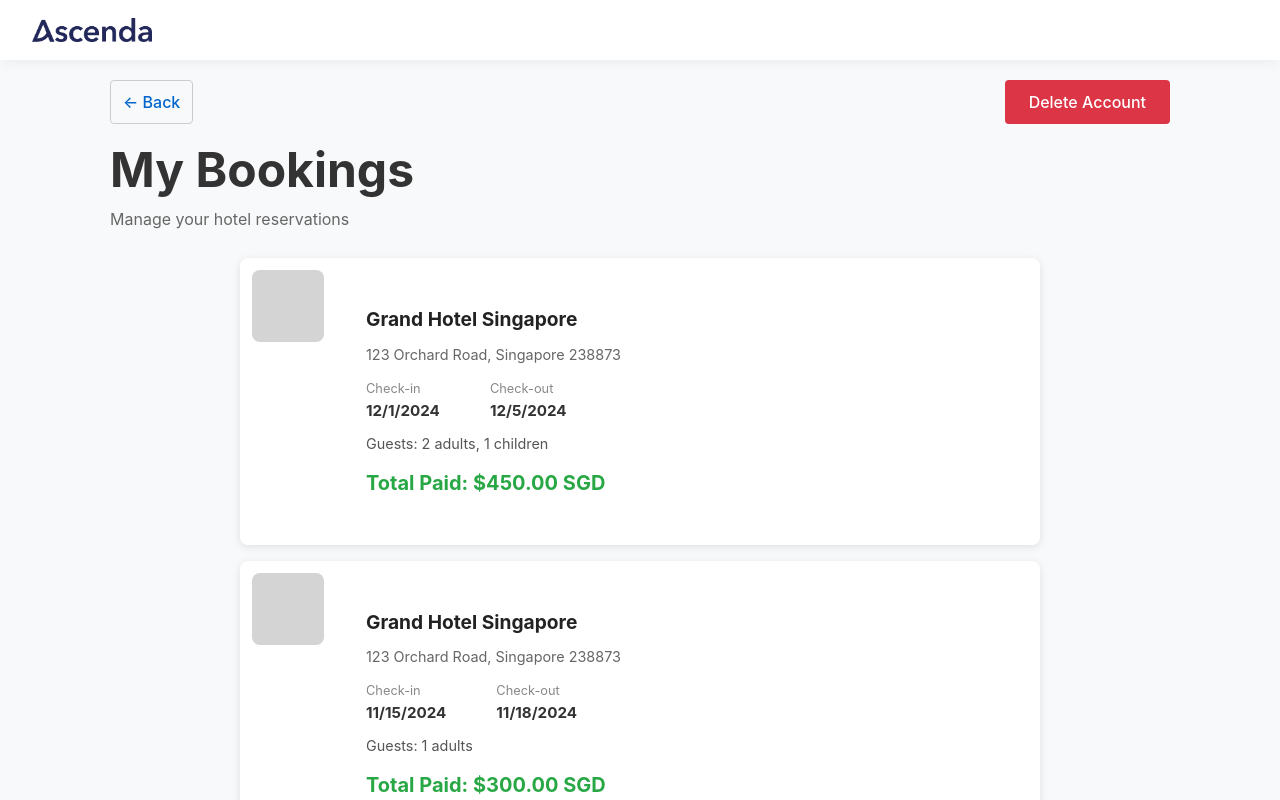
Test: ViewBookingsPage and BookingDetailsModal Integration › should close modal when close button is clicked
The image size is (1280, 800).
Expected: the number of headings "Grand Hotel Singapore" is 2, left=366, top=307, right=577, bottom=331; left=366, top=610, right=577, bottom=634
Step 1. Click the text "Total Paid: $450.00 SGD" → (640, 402), box left=240, top=258, right=1040, bottom=545
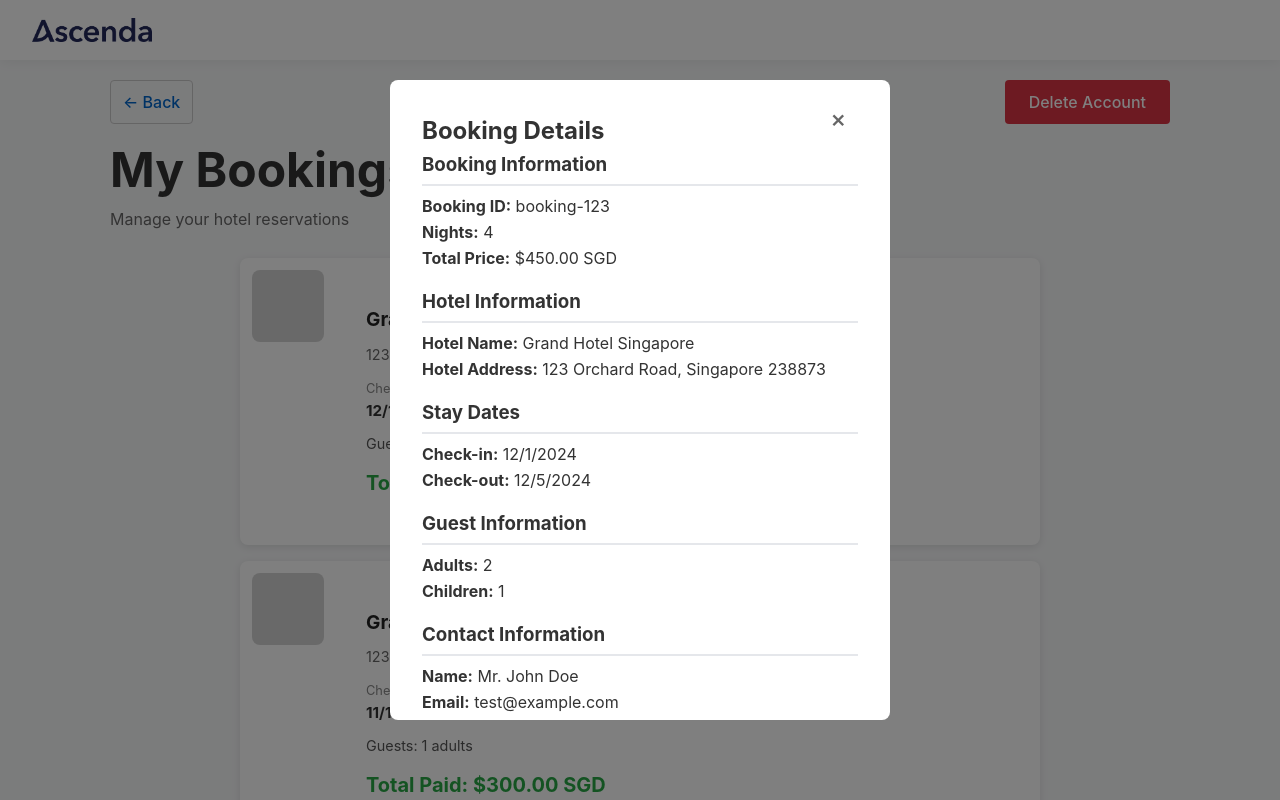
Expected: the heading "Booking Details" is shown, left=422, top=116, right=604, bottom=145
Close modal
Step 2. Click the button "×" → (838, 119), box left=801, top=90, right=875, bottom=148
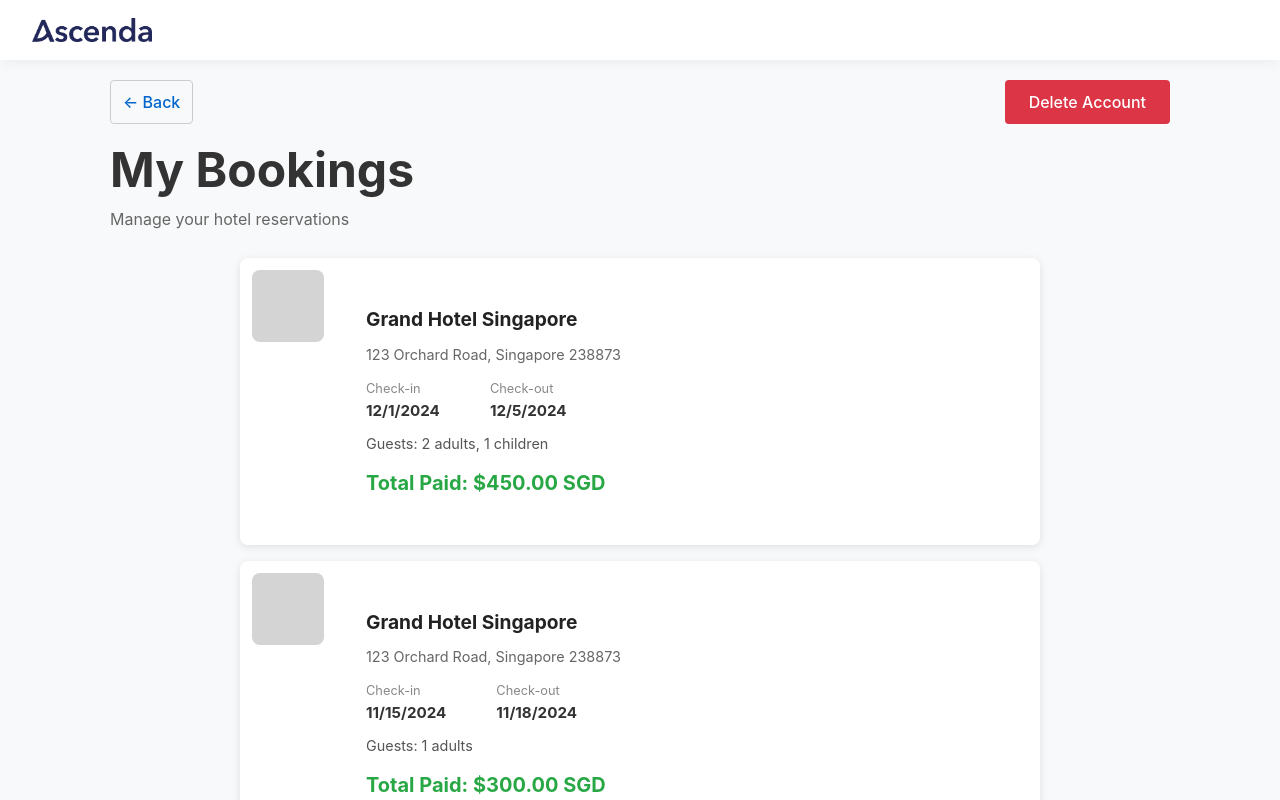
Expected: the heading "Booking Details" is gone
